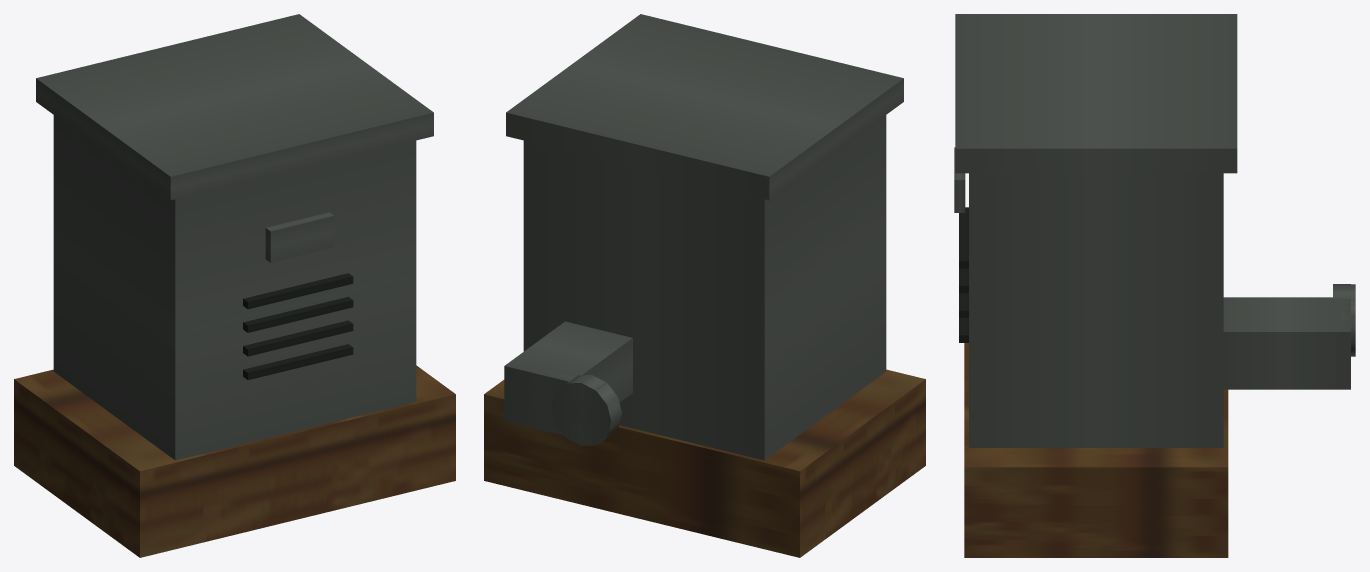
File: SG_Wood_Drive_Reverse.glb
3 renders of one model, left to right at view 1: azimuth 30°, elevation 25°; view 2: azimuth 150°, elevation 25°; view 3: azimuth 270°, elevation 25°, orthographic. The views are drawn at different scales.
Parts seen in each view (by area): view 1: SG_Wood_2_high_Reverse_SG_Drive_Reverse; view 2: SG_Wood_2_high_Reverse_SG_Drive_Reverse; view 3: SG_Wood_2_high_Reverse_SG_Drive_Reverse.
Part boxes in pixels (<box>): SG_Wood_2_high_Reverse_SG_Drive_Reverse: <box>14,14,455,557</box>; SG_Wood_2_high_Reverse_SG_Drive_Reverse: <box>484,14,925,557</box>; SG_Wood_2_high_Reverse_SG_Drive_Reverse: <box>954,14,1355,557</box>.
Size of the model in its own units: 0.42 by 0.48 by 0.441.
Materials: 1 (1 with a texture image).
